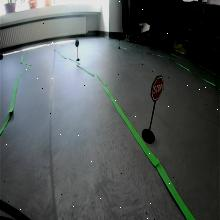stop: (151, 75, 164, 101)
